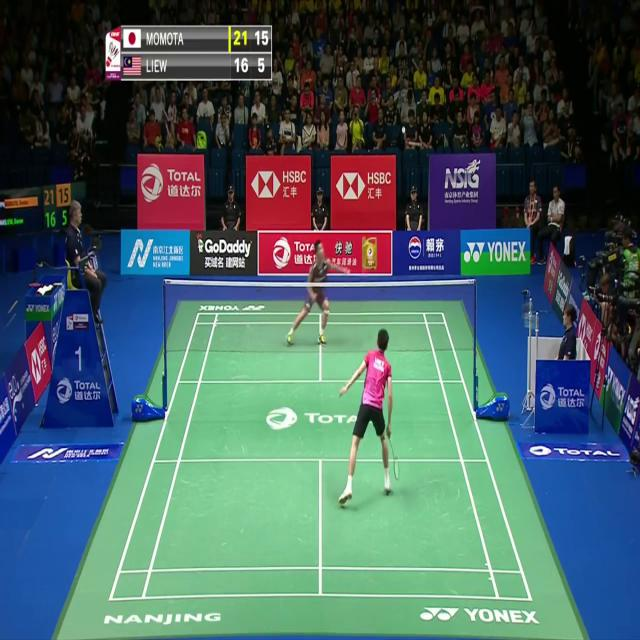Shuttlecock: (401, 124, 407, 136)
